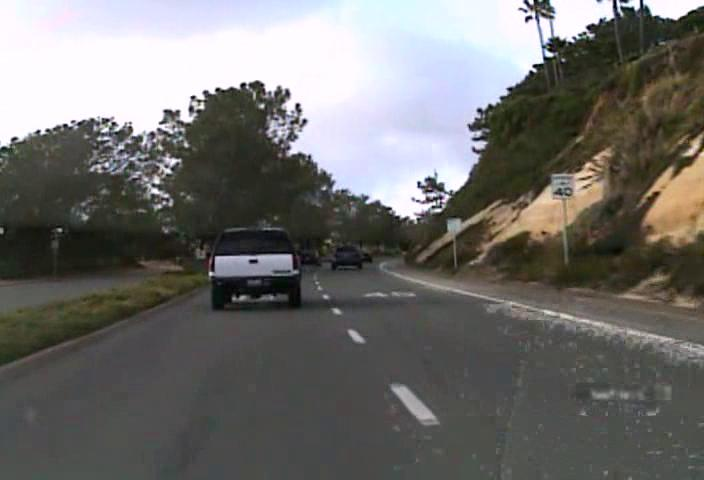speedLimit40: (549, 171, 575, 200)
